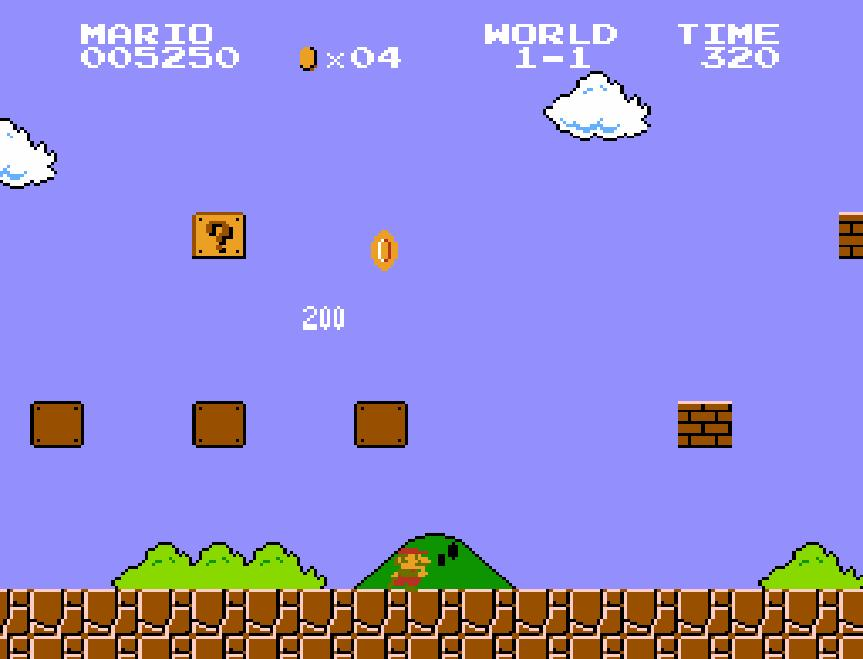little_mario: (379, 552, 437, 602)
